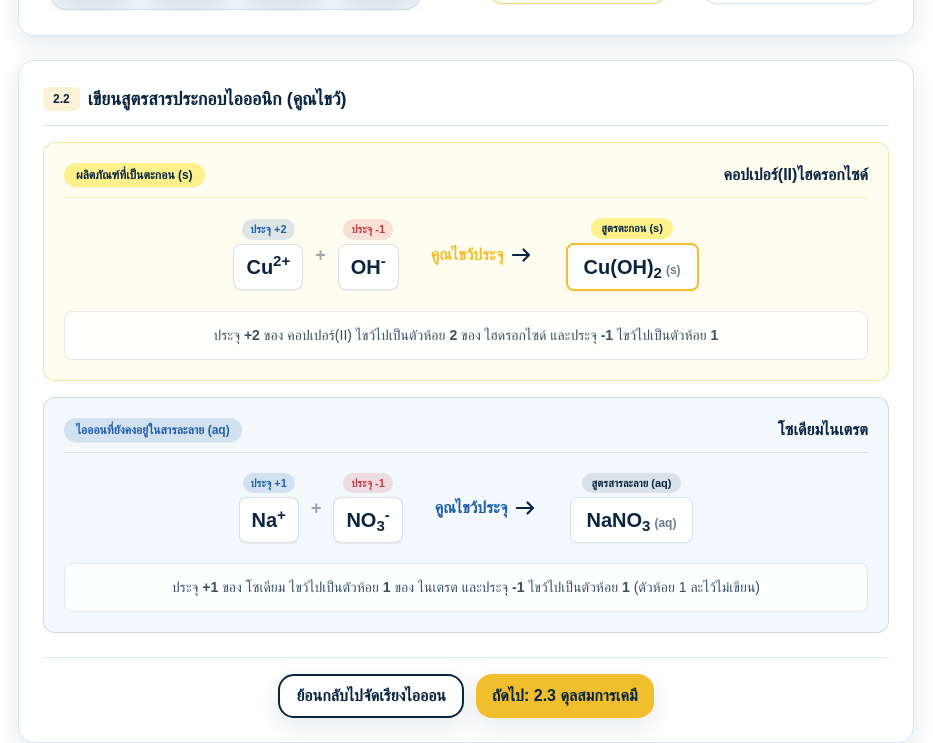
Test: Step2 · จัดเรียงไอออน, ไขว้ประจุ และดุลสมการ › เมื่อกด 'ถัดไป: 2.3 ดุลสมการเคมี' จะสลับไปแสดงช่องกรอกสัมประสิทธิ์และตารางนับอะตอม
The width and height of the screenshot is (933, 743).
(page scrolled)
# กดปุ่มถัดไป
Click the button "ถัดไป: 2.3 ดุลสมการเคมี": (565, 696) x1=476 y1=674 x2=654 y2=718
(page scrolled)
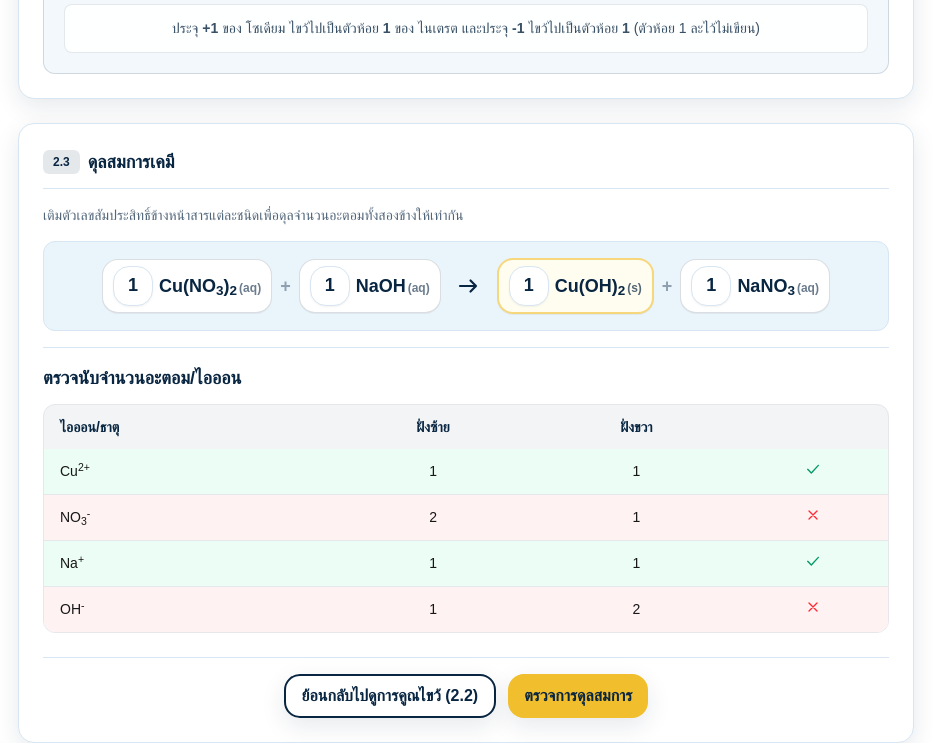
Now the heading "ตรวจนับจำนวนอะตอม/ไอออน" is shown, box x1=43 y1=368 x2=241 y2=388
Now the button "ตรวจการดุลสมการ" is shown, box x1=508 y1=674 x2=648 y2=718
Now the button "ย้อนกลับไปดูการคูณไขว้ (2.2)" is shown, box x1=284 y1=674 x2=496 y2=718
